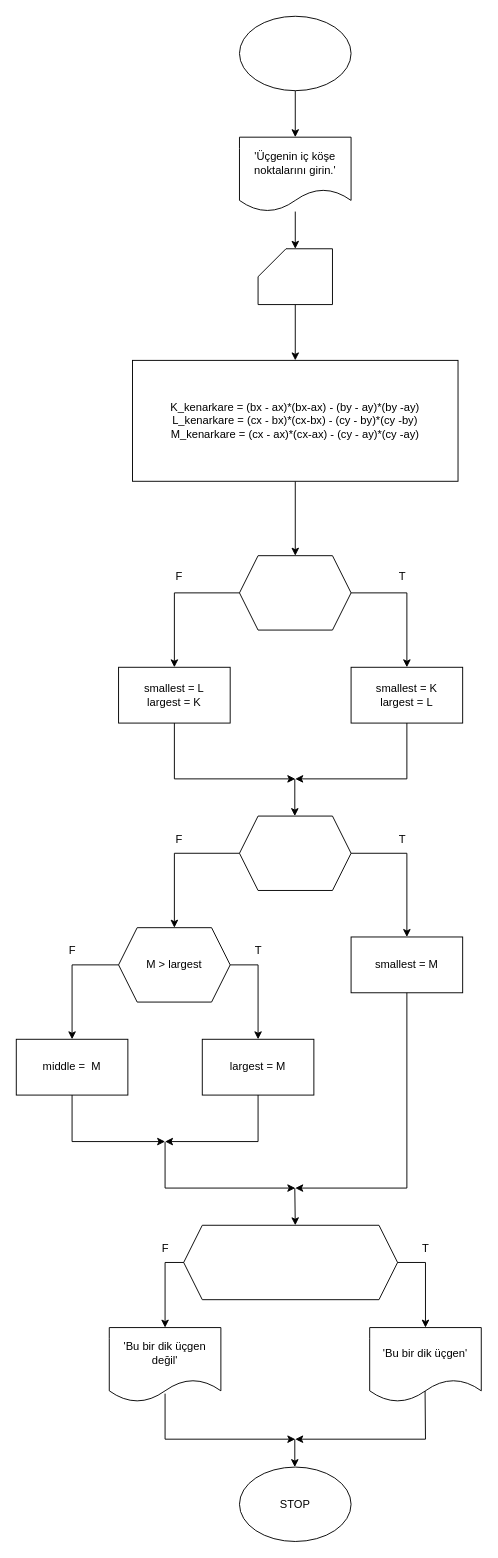
Image size: 498x1558. Some labels were removed from this diagram. Here are the shapes that lost their labels. From the top down, the centre of each, then its label:
At [295,53]: "START".
At [294,276]: "ax, ay, bx, by, cx, cy".
At [295,592]: "K < L".
At [295,852]: "M < smallest".
At [290,1262]: "smallest*smallest + middle*middle = largest*largest".
